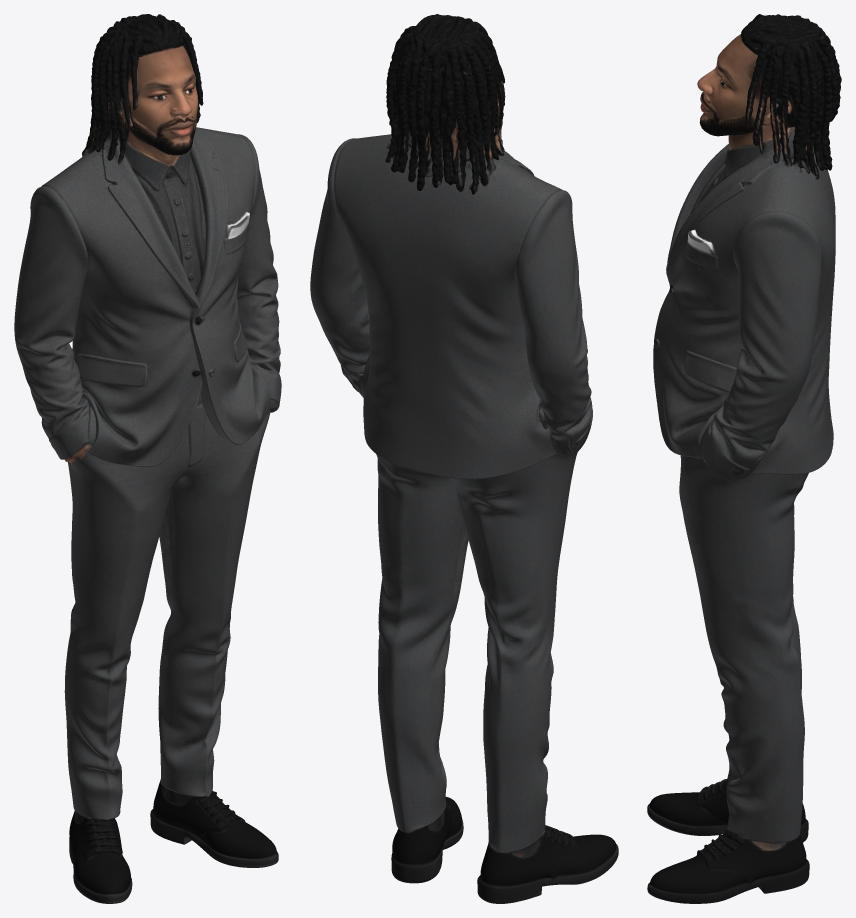
The model's file is marquis-v15.glb.
3 renders of one model, left to right at view 1: azimuth 30°, elevation 25°; view 2: azimuth 150°, elevation 25°; view 3: azimuth 270°, elevation 25°, orthographic. The views are drawn at different scales.
Bounding box in the file's own units: 0.6166 × 1.9 × 0.3969.
1 material, 1 textured.
